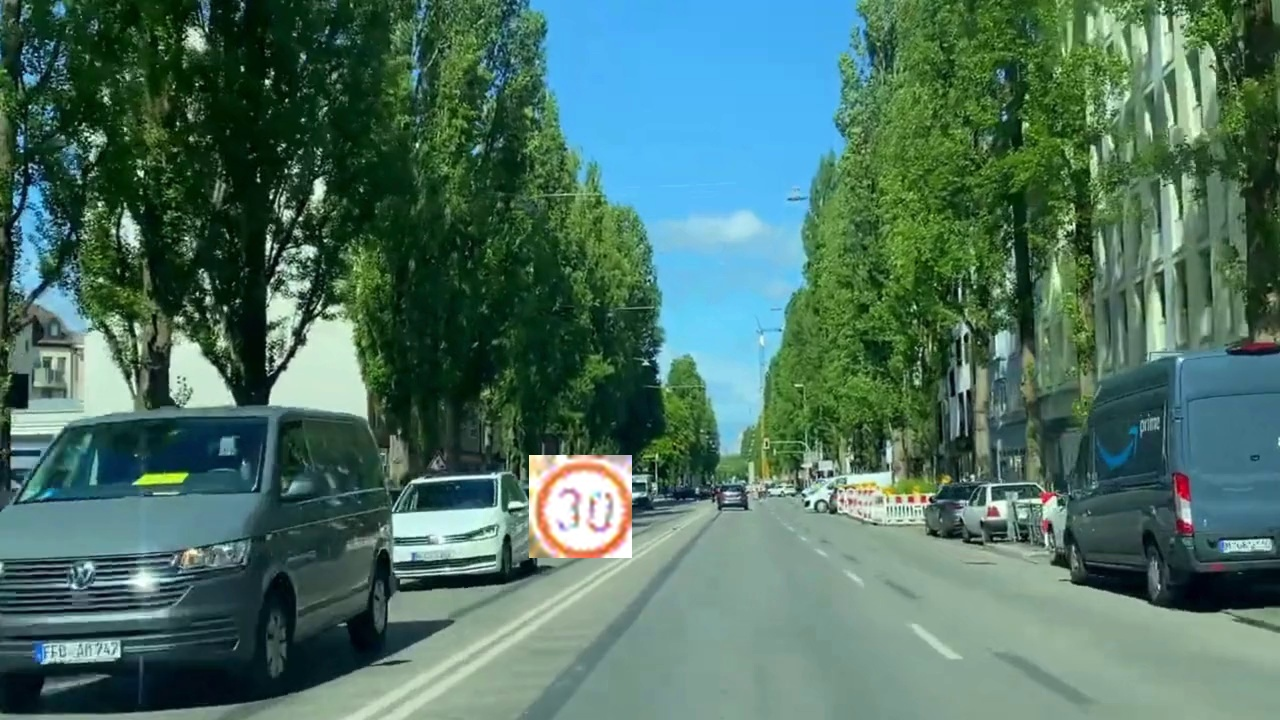Speed 30: (529, 455, 632, 558)
